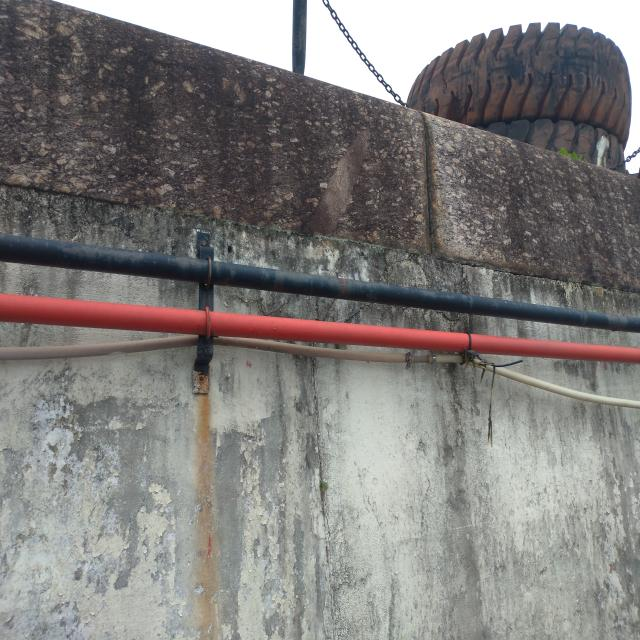gas: (0, 234, 640, 331), (3, 292, 637, 361)
